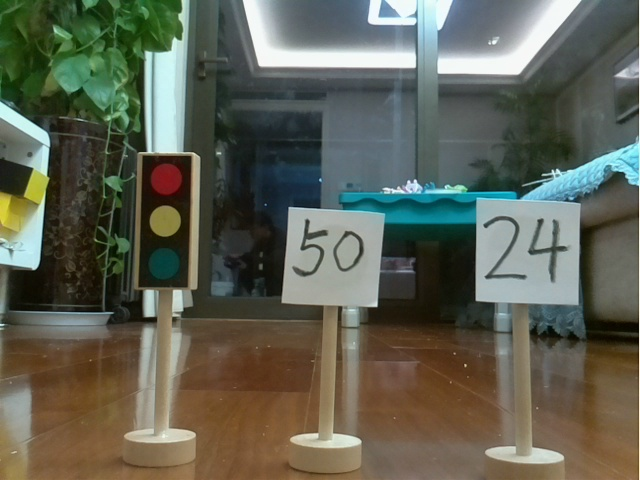Red Traffic Light: (124, 144, 206, 469)
Speed Limit 24: (467, 184, 588, 480)
Speed Limit 50: (274, 203, 388, 474)
